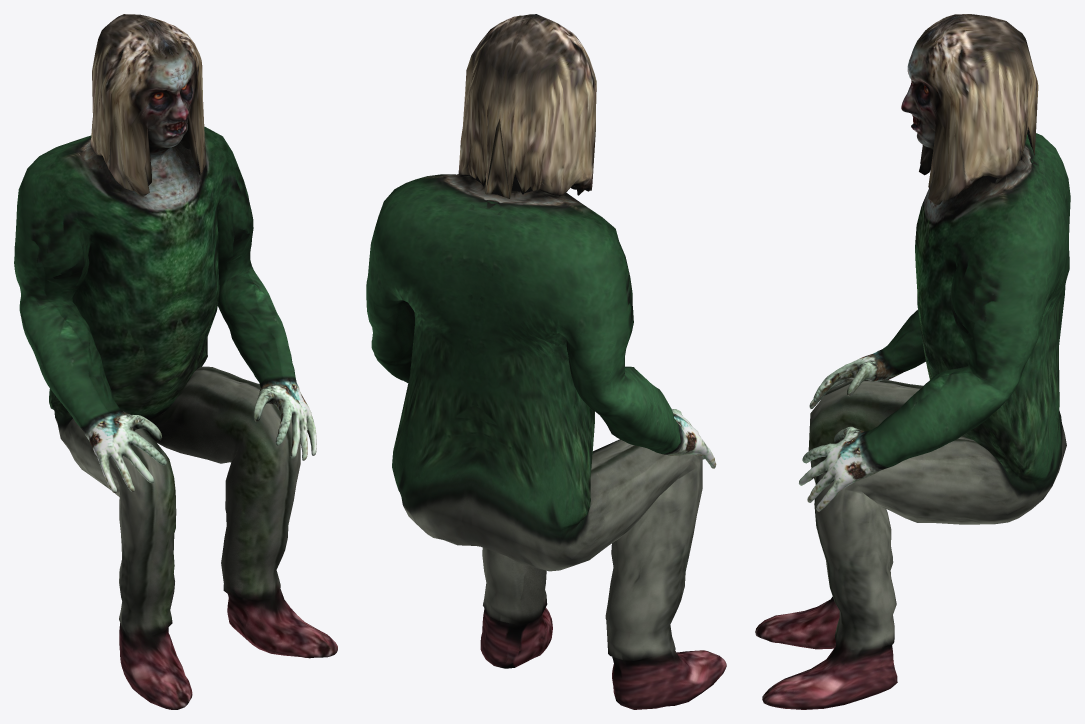
The model's file is Zombie sit.fbx.
The picture shows the model from 3 angles, left to right: view 1: azimuth 30°, elevation 25°; view 2: azimuth 150°, elevation 25°; view 3: azimuth 270°, elevation 25°; orthographic projection. The views are drawn at different scales.
Visible parts, largest first — view 1: Zombie; view 2: Zombie; view 3: Zombie.
Part boxes in pixels (x1,y1,x2,y2): Zombie: (14, 14, 337, 709); Zombie: (366, 14, 726, 709); Zombie: (755, 14, 1070, 709).
Size of the model in its own units: 164 by 419 by 182.
